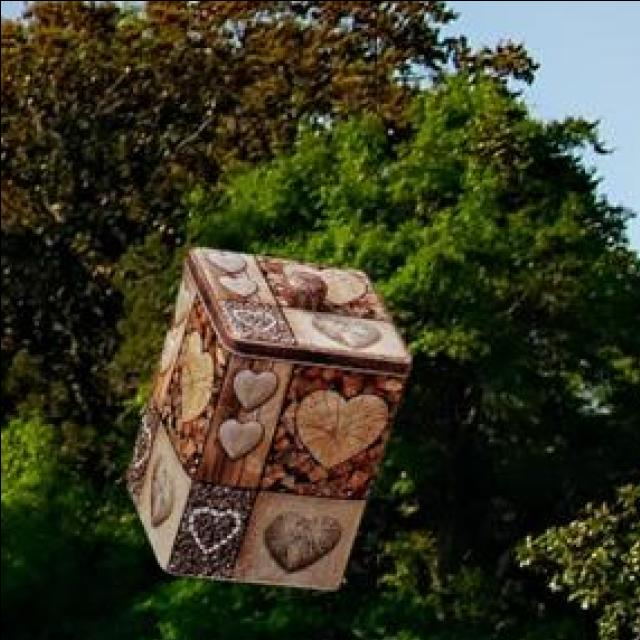logam: (122, 243, 406, 585)
